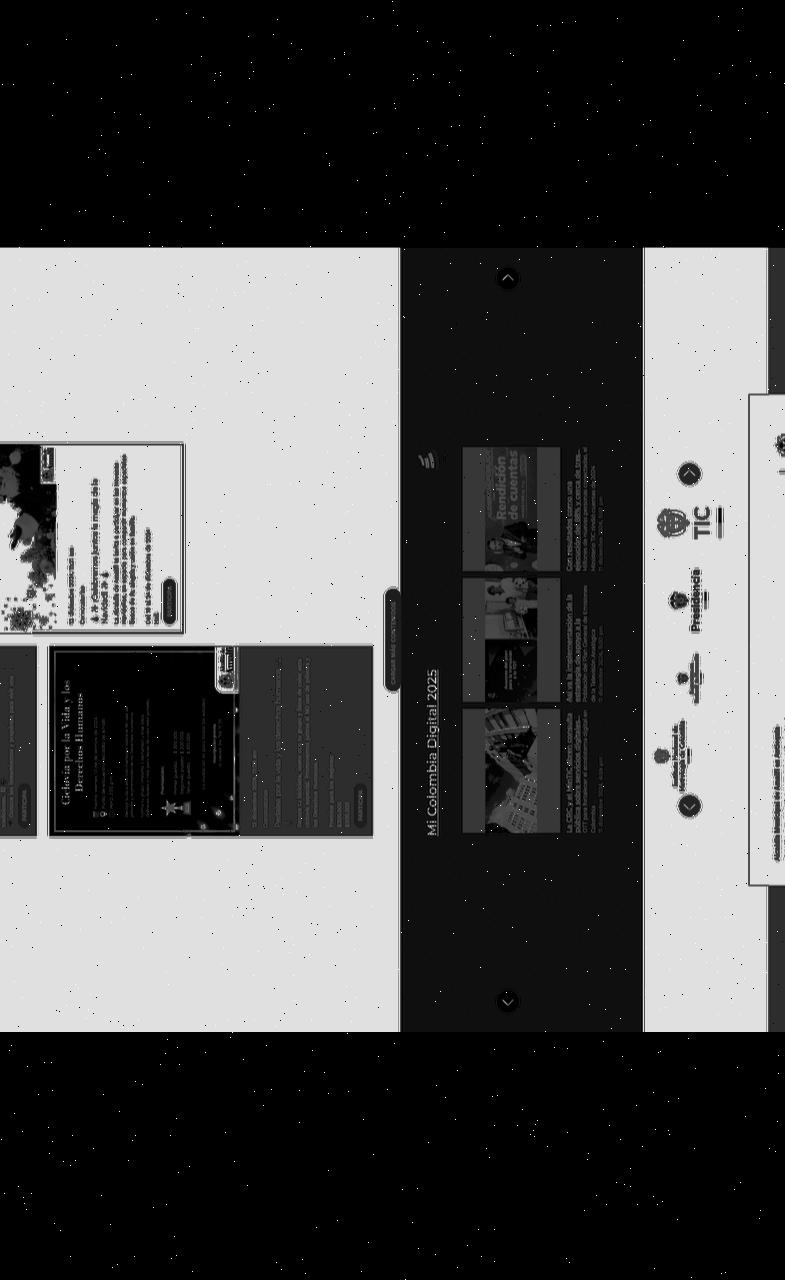banner entidades: (650, 462, 724, 818)
btn participa: (356, 789, 364, 822), (166, 586, 172, 618)
direccion: (782, 833, 785, 862)
